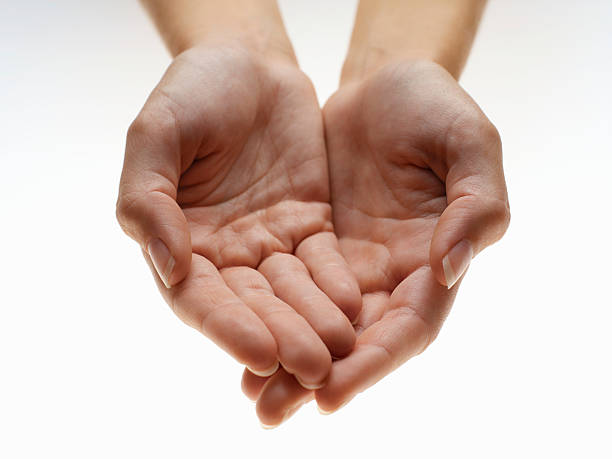hand: (69, 28, 554, 440)
